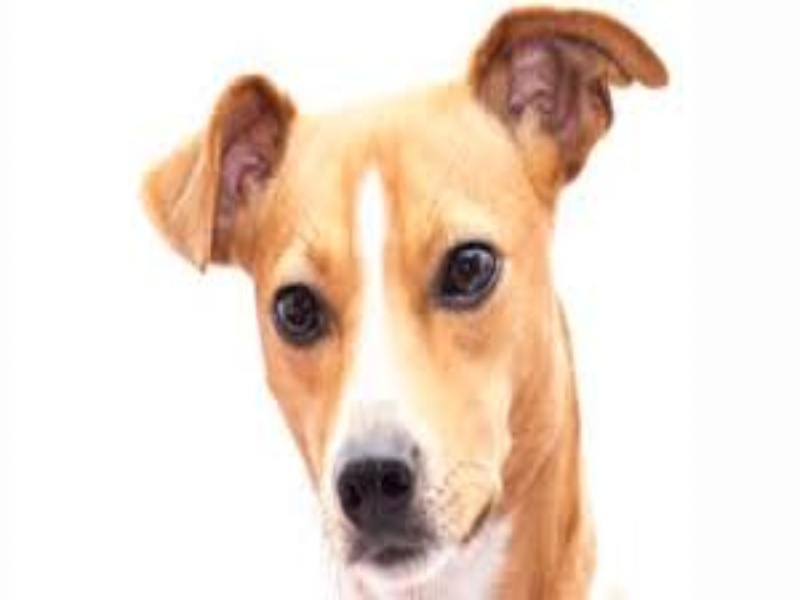dog: (135, 5, 679, 600)
